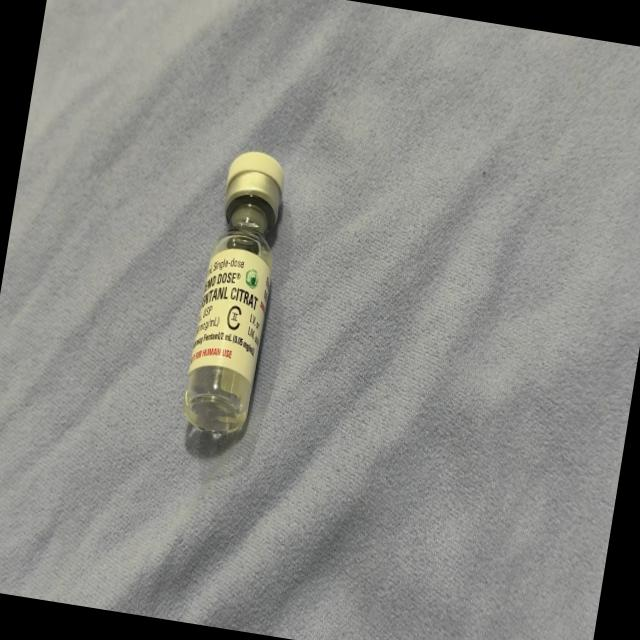fentanl_citrat: (180, 152, 289, 438)
